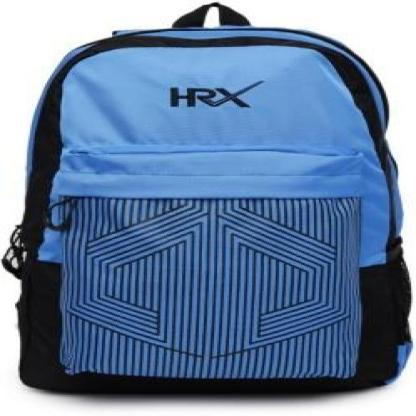bag: (5, 4, 415, 406)
